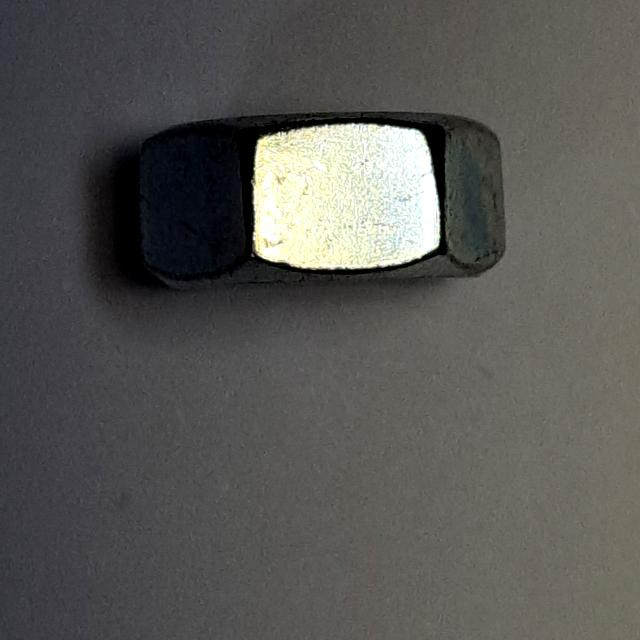Side_Excellent: (119, 83, 516, 315)
